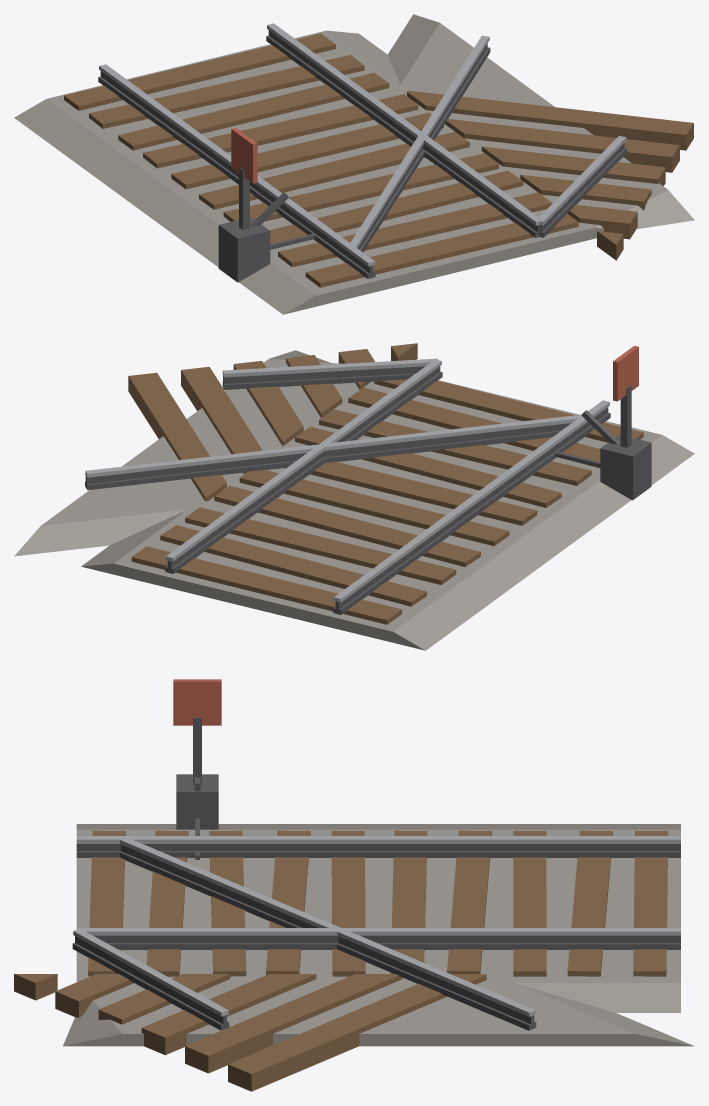
Rendered from SM_Rail_Switch.glb.
The picture shows the model from 3 angles, top to bottom: view 1: azimuth 30°, elevation 25°; view 2: azimuth 150°, elevation 25°; view 3: azimuth 270°, elevation 25°; orthographic projection. The views are drawn at different scales.
Visible parts, largest first — view 1: SM_Rail_Switch; view 2: SM_Rail_Switch; view 3: SM_Rail_Switch.
Part boxes in pixels (x1=…): SM_Rail_Switch: x1=14, y1=14, x2=694, y2=314; SM_Rail_Switch: x1=14, y1=343, x2=694, y2=650; SM_Rail_Switch: x1=14, y1=679, x2=694, y2=1091.
Size of the model in its own units: 4.2 by 1.11 by 4.51.
